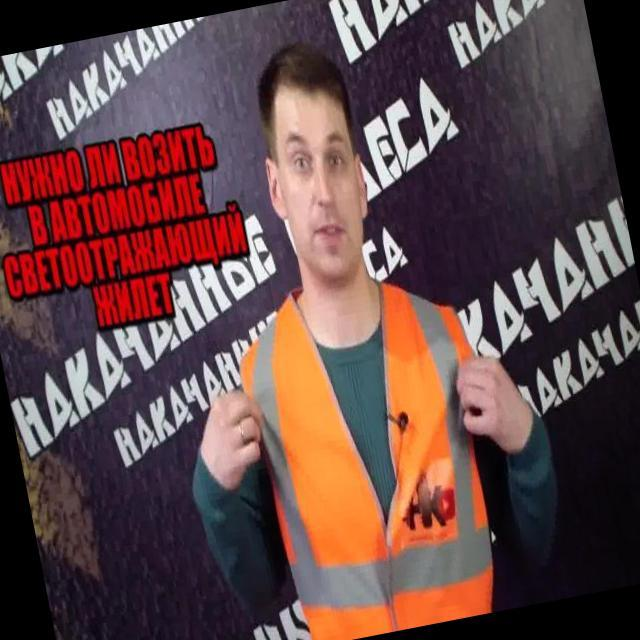Person: (180, 32, 571, 640)
Safety Vest: (225, 281, 516, 640)
bare-arms: (446, 348, 534, 470), (199, 378, 271, 502)
no-helmet: (253, 43, 352, 95)
